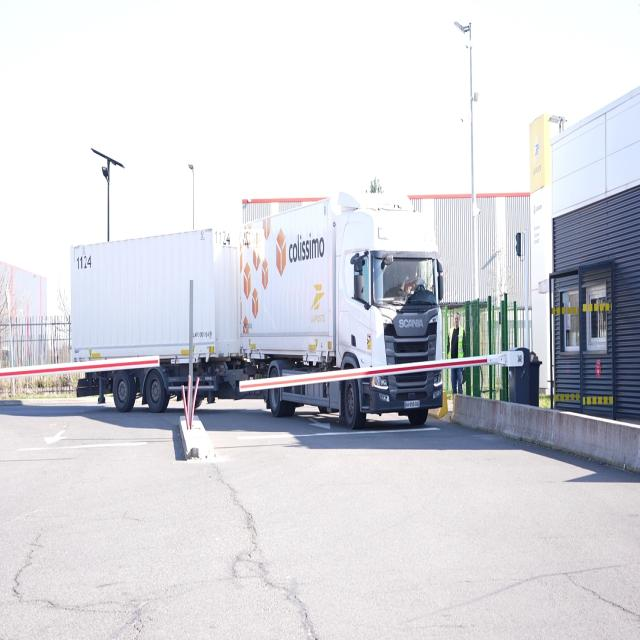Code: (209, 224, 233, 248), (74, 249, 95, 273)
